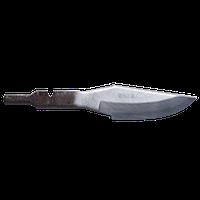knife: (2, 72, 200, 124)
